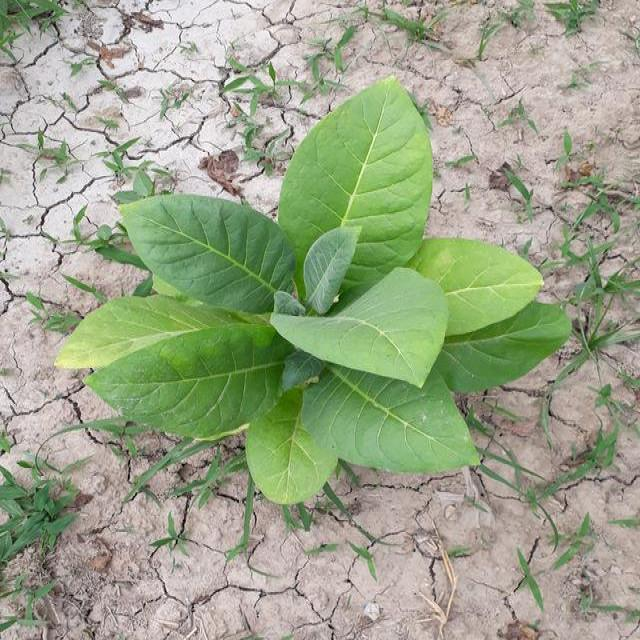crop: (48, 77, 572, 510)
